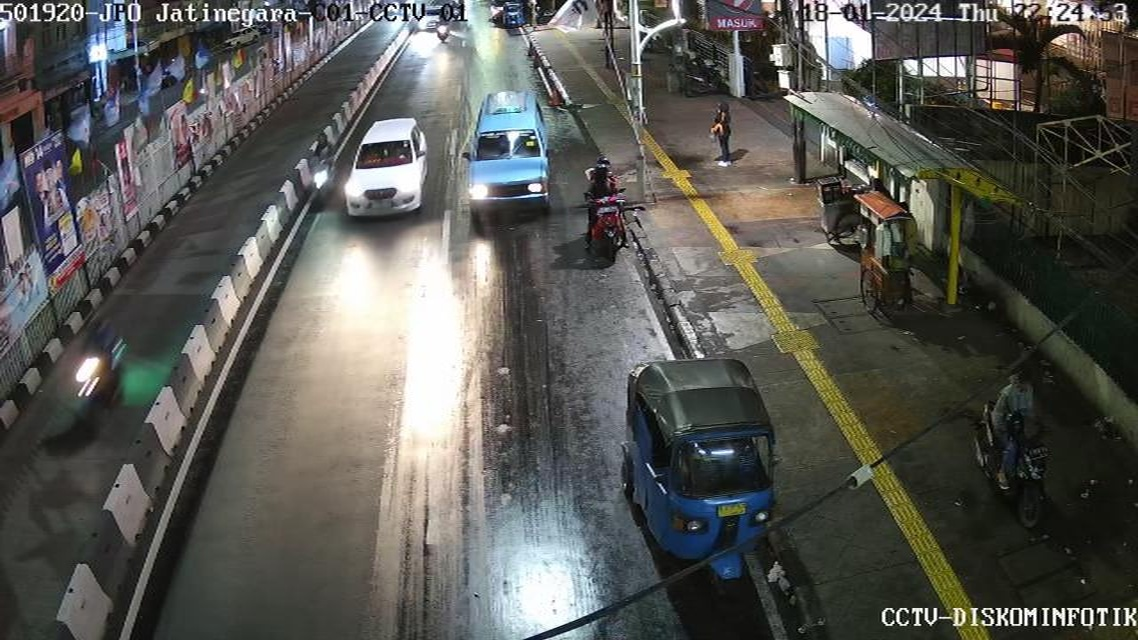Gerobak: (861, 184, 944, 307), (791, 143, 864, 236)
